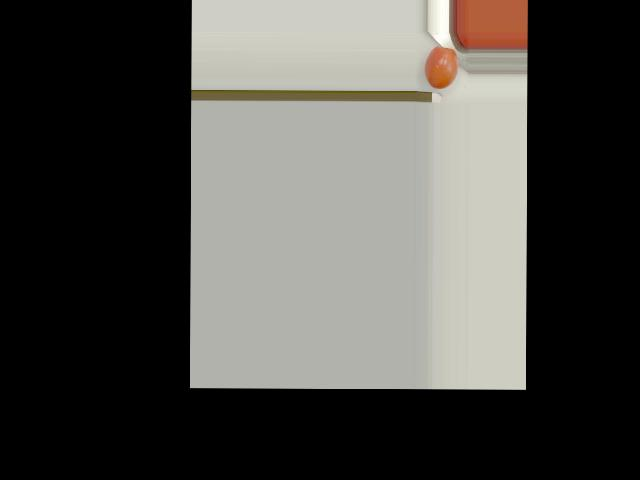tomato: (424, 46, 458, 88)
